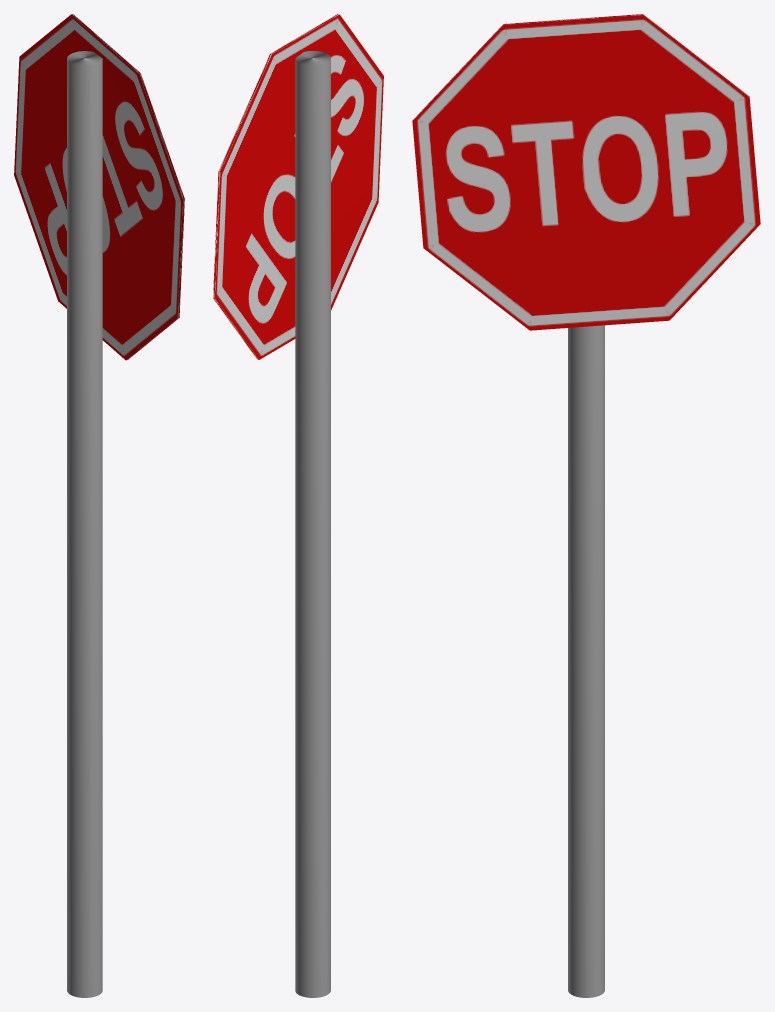
The model's file is StopSign.fbx.
3 renders of one model, left to right at view 1: azimuth 30°, elevation 25°; view 2: azimuth 150°, elevation 25°; view 3: azimuth 270°, elevation 25°, orthographic. The views are drawn at different scales.
Visible parts, largest first — view 1: Cylinder, Cylinder_001; view 2: Cylinder, Cylinder_001; view 3: Cylinder_001, Cylinder.
Part boxes in pixels (bbox=[...]): Cylinder: bbox=[67, 51, 102, 997]; Cylinder_001: bbox=[14, 14, 184, 360]; Cylinder: bbox=[295, 51, 330, 997]; Cylinder_001: bbox=[213, 14, 383, 359]; Cylinder_001: bbox=[412, 14, 760, 330]; Cylinder: bbox=[568, 325, 604, 997].
Size of the model in its own units: 0.2025 by 5.92 by 1.9.
3 materials, 2 textured.
